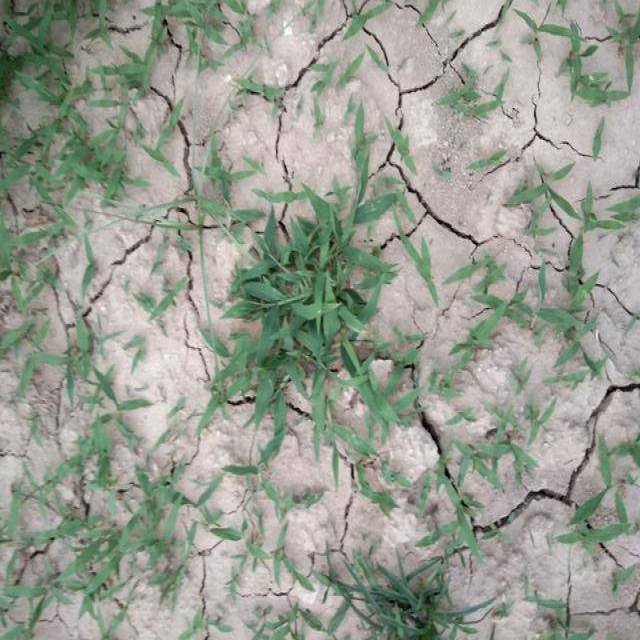weed: (214, 196, 390, 462), (0, 26, 126, 230), (33, 480, 208, 626), (341, 558, 472, 640)
